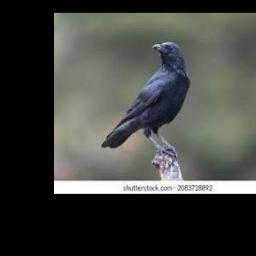Crow: (100, 41, 190, 151)
